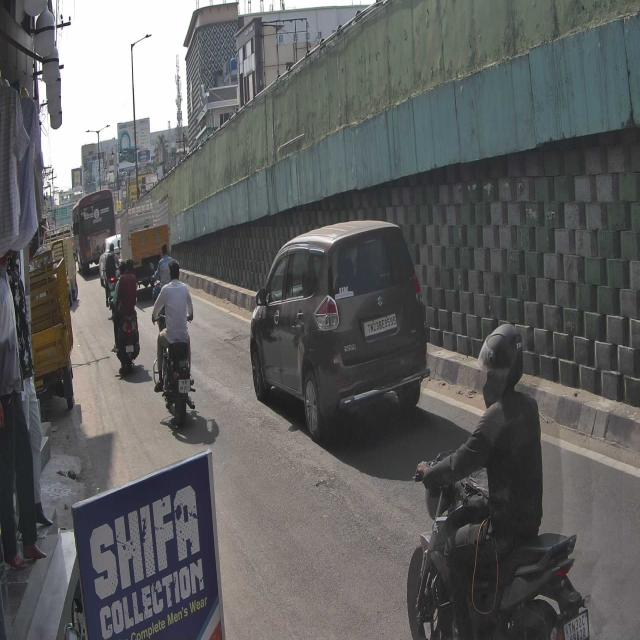single_rider: (406, 318, 590, 640)
